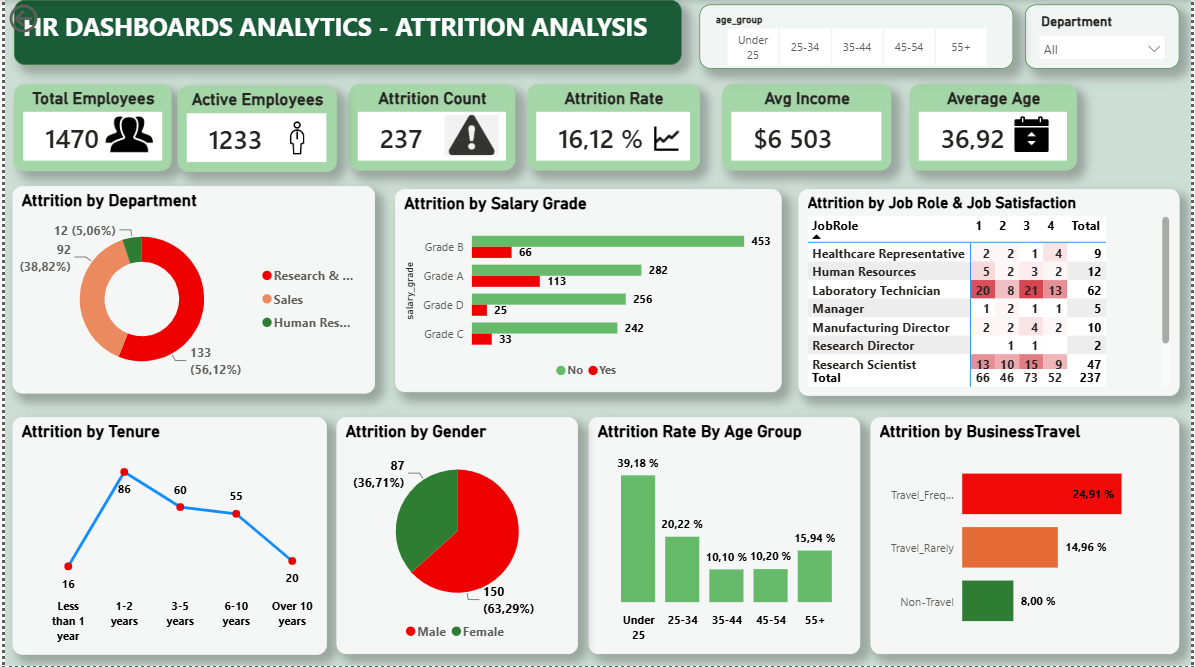

The page's visual inventory and layout, read from the dashboard file:
{"tool":"powerbi","page":{"name":"Page 1","canvas":[1280,720],"ordinal":0},"visuals":[{"type":"textbox","box":[9.5,0,994.1,70],"z":0},{"type":"cardVisual","title":"Total Employees","fields":{"Data":["HR_Data.Total Employees"]},"box":[15.9,74.8,168.6,92.3],"z":1000},{"type":"cardVisual","title":"Attrition Count","fields":{"Data":["HR_Data.Total Exits"]},"box":[397.7,74.8,181.3,92.3],"z":2000},{"type":"cardVisual","title":"Attrition Rate ","fields":{"Data":["HR_Data.Attrition Rate"]},"box":[15.9,171.8,168.6,92.3],"z":3000},{"type":"cardVisual","title":"Active Employees","fields":{"Data":["HR_Data.Total Employees"]},"box":[202,74.8,182.9,92.3],"z":6000},{"type":"cardVisual","title":"Avg  Income","fields":{"Data":["HR_Data.Avg Monthly Income"]},"box":[202,171.8,182.9,92.3],"z":6500},{"type":"donutChart","title":" Attrition by Department","fields":{"Category":["HR_Data.Department"],"Y":["HR_Data.Total Exits"]},"box":[613.3,75,390,218.3],"z":7000},{"type":"lineChart","title":"Attrition by Tenure ","fields":{"Category":["HR_Data.tenure_bracket"],"Y":["HR_Data.Total Exits"]},"box":[11.1,482,397.7,225.9],"z":8000},{"type":"cardVisual","title":"Average Age","fields":{"Data":["Avg(HR_Data.Age)"]},"box":[397.7,171.8,181.3,92.3],"z":8500},{"type":"clusteredColumnChart","title":"Attrition Rate By Age Group ","fields":{"Category":["HR_Data.age_group"],"Y":["HR_Data.Attrition Rate"]},"box":[15.9,276.8,294.3,190.9],"z":9000},{"type":"clusteredBarChart","title":"Attrition by Salary Grade","fields":{"Category":["HR_Data.salary_grade"],"Y":["HR_Data.Total Employees"],"Series":["HR_Data.Attrition"]},"box":[835,481.7,416.7,225],"z":10000},{"type":"pivotTable","title":"Attrition by Job Role & Job Satisfaction","fields":{"Columns":["HR_Data.JobSatisfaction"],"Rows":["HR_Data.JobRole"],"Values":["CountNonNull(HR_Data.Attrition)"]},"box":[423.3,481.7,385,225],"z":11000},{"type":"actionButton","box":[0,0,100,40],"z":12000},{"type":"pieChart","title":" Attrition by Gender","fields":{"Category":["HR_Data.Gender"],"Y":["HR_Data.Total Exits"]},"box":[321.3,278.4,260.9,189.3],"z":13000},{"type":"slicer","fields":{"Values":["HR_Data.Department"]},"box":[1021.7,20,230,93.3],"z":14000},{"type":"clusteredBarChart","title":"Attrition by BusinessTravel","fields":{"Category":["HR_Data.BusinessTravel"],"Y":["HR_Data.Attrition Rate"]},"box":[613.3,300,390,166.7],"z":15000},{"type":"slicer","fields":{"Values":["HR_Data.age_group"]},"box":[1021.7,141.7,230,86.7],"z":16000},{"type":"slicer","fields":{"Values":["HR_Data.EducationField"]},"box":[1021.7,251.7,230,85],"z":17000},{"type":"slicer","fields":{"Values":["HR_Data.BusinessTravel"]},"box":[1021.7,360,230,83.3],"z":18000}]}

Visuals, with their boxes in screenshot pixels (x1, y1, x2, y2), scaled from the page's 1280x720 canvas onto the 1195x667 screenshot:
textbox: [left=9, top=0, right=937, bottom=65]
"Total Employees" cardVisual: [left=15, top=69, right=172, bottom=155]
"Attrition Count" cardVisual: [left=371, top=69, right=541, bottom=155]
"Attrition Rate " cardVisual: [left=15, top=159, right=172, bottom=245]
"Active Employees" cardVisual: [left=189, top=69, right=359, bottom=155]
"Avg  Income" cardVisual: [left=189, top=159, right=359, bottom=245]
" Attrition by Department" donutChart: [left=573, top=69, right=937, bottom=272]
"Attrition by Tenure " lineChart: [left=10, top=447, right=382, bottom=656]
"Average Age" cardVisual: [left=371, top=159, right=541, bottom=245]
"Attrition Rate By Age Group " clusteredColumnChart: [left=15, top=256, right=290, bottom=433]
"Attrition by Salary Grade" clusteredBarChart: [left=780, top=446, right=1169, bottom=655]
"Attrition by Job Role & Job Satisfaction" pivotTable: [left=395, top=446, right=755, bottom=655]
actionButton: [left=0, top=0, right=93, bottom=37]
" Attrition by Gender" pieChart: [left=300, top=258, right=544, bottom=433]
slicer - HR_Data.Department: [left=954, top=19, right=1169, bottom=105]
"Attrition by BusinessTravel" clusteredBarChart: [left=573, top=278, right=937, bottom=432]
slicer - HR_Data.age_group: [left=954, top=131, right=1169, bottom=212]
slicer - HR_Data.EducationField: [left=954, top=233, right=1169, bottom=312]
slicer - HR_Data.BusinessTravel: [left=954, top=334, right=1169, bottom=411]
